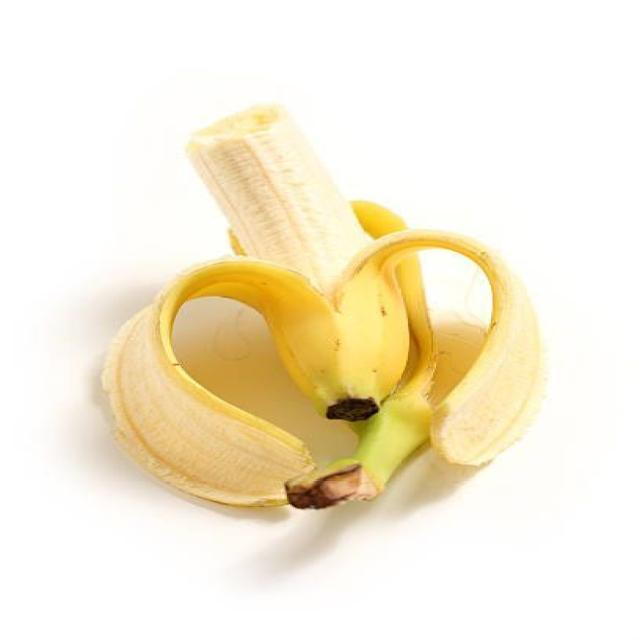banana: (104, 107, 541, 508), (288, 232, 542, 508), (189, 106, 409, 420)
